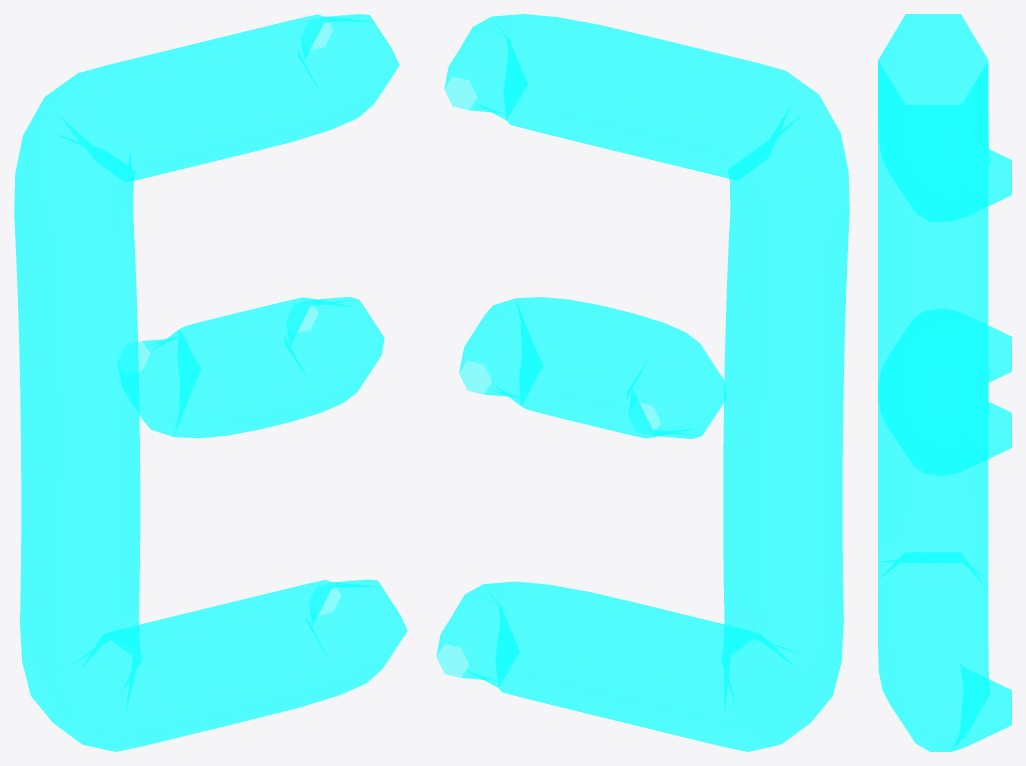
The picture shows the model from 3 angles, left to right: view 1: azimuth 30°, elevation 25°; view 2: azimuth 150°, elevation 25°; view 3: azimuth 270°, elevation 25°; orthographic projection. The views are drawn at different scales.
Visible parts, largest first — view 1: neon_letter_e.001_136; view 2: neon_letter_e.001_136; view 3: neon_letter_e.001_136.
Part boxes in pixels (left/top/right/bottom): neon_letter_e.001_136: left=14, top=14, right=407, bottom=751; neon_letter_e.001_136: left=436, top=14, right=849, bottom=751; neon_letter_e.001_136: left=878, top=14, right=1011, bottom=751.
Size of the model in its own units: 0.5199 by 0.866 by 0.1712.
